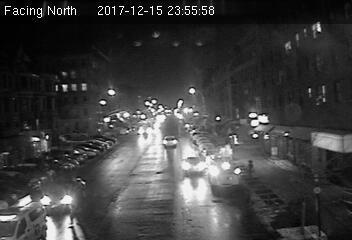car: (1, 195, 49, 240), (41, 176, 86, 213), (209, 159, 241, 190), (182, 155, 205, 176), (163, 136, 177, 148)
